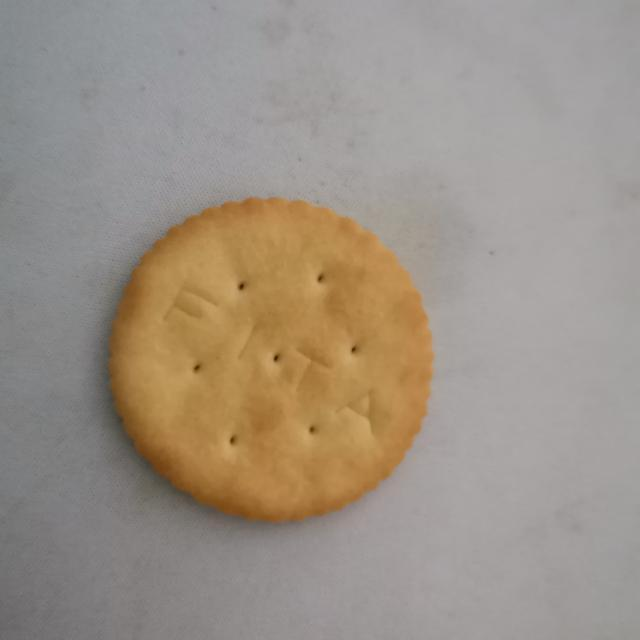Intact: (91, 189, 440, 533)
